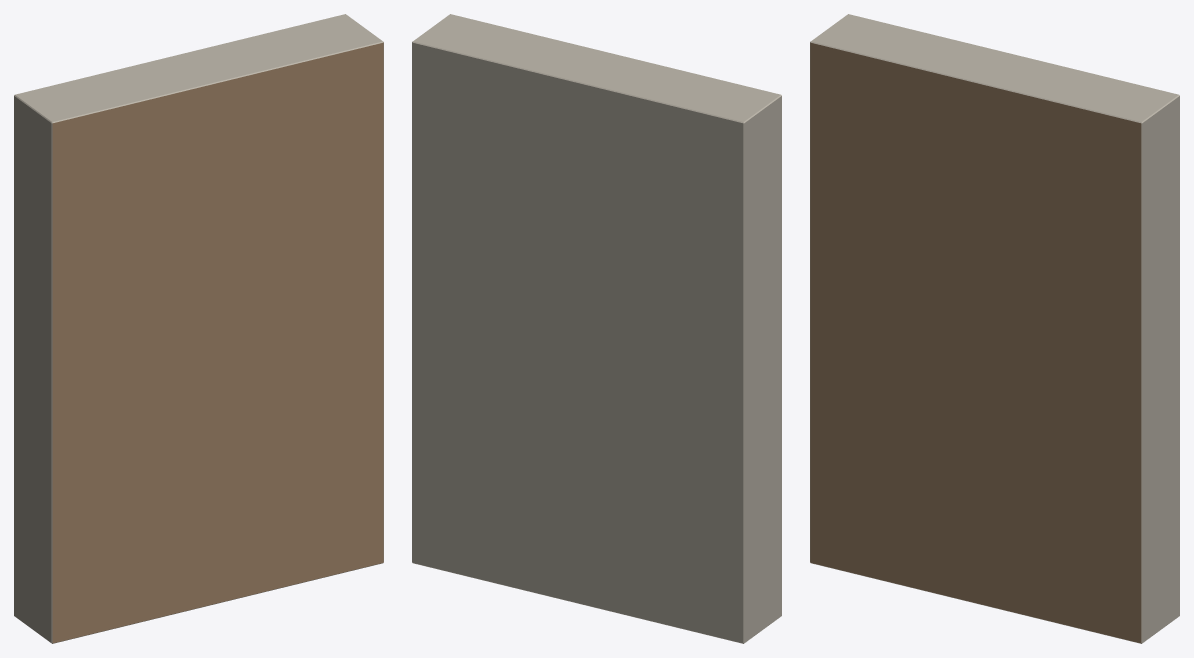
Rendered from arch_wall_ext_w200_h300.glb.
3 views of the same model, side by side, from view 1: azimuth 30°, elevation 25°; view 2: azimuth 150°, elevation 25°; view 3: azimuth 330°, elevation 25° (orthographic).
Visible parts, largest first — view 1: Wall; view 2: Wall; view 3: Wall.
Part boxes in pixels (x1,y1,x2,y2): Wall: [14, 14, 383, 643]; Wall: [412, 14, 781, 643]; Wall: [810, 14, 1179, 643].
Size of what is drawn, in the model's own units: 2 by 3 by 0.4.
